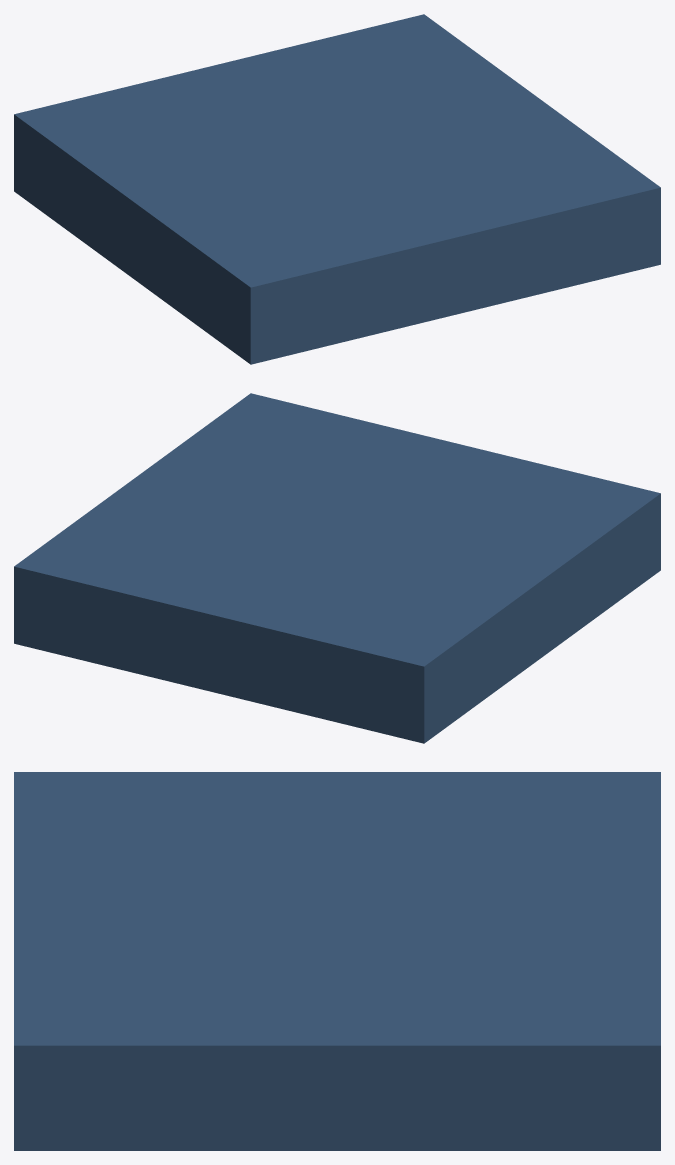
The model's file is full-room.glb.
3 views of the same model, one above another, from view 1: azimuth 30°, elevation 25°; view 2: azimuth 150°, elevation 25°; view 3: azimuth 270°, elevation 25° (orthographic). The views are drawn at different scales.
Parts seen in each view (by area): view 1: house; view 2: house; view 3: house.
Boxes of the visible parts, x1,y1,x2,y2 form: house: (14, 14, 660, 364); house: (14, 393, 660, 743); house: (14, 772, 660, 1150).
Bounding box in the file's own units: 89.12 × 16.03 × 89.12.
